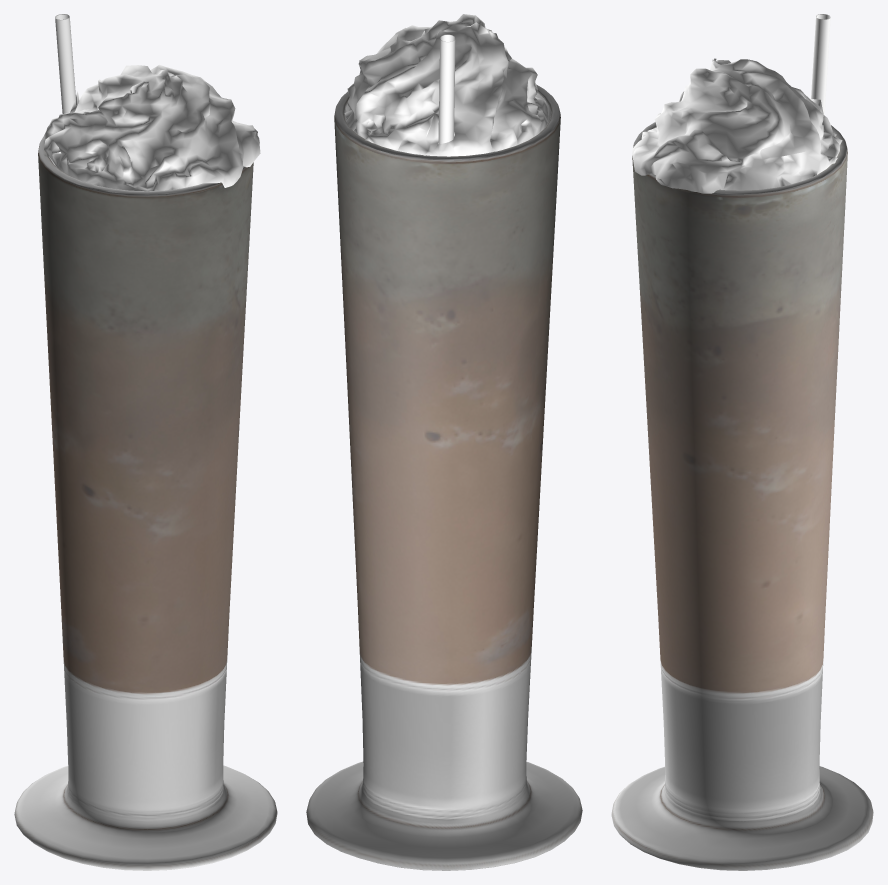
File: vanilla_iced_latte.obj
3 renders of one model, left to right at view 1: azimuth 30°, elevation 25°; view 2: azimuth 150°, elevation 25°; view 3: azimuth 270°, elevation 25°, orthographic. The views are drawn at different scales.
Visible parts, largest first — view 1: obj2, obj1; view 2: obj2, obj1; view 3: obj2, obj1.
Part boxes in pixels (x1,y1,x2,y2): obj2: (14,136,277,870); obj1: (44,14,260,191); obj2: (306,84,582,870); obj1: (344,14,550,156); obj2: (611,122,873,870); obj1: (632,14,842,193).
Size of the model in its own units: 5.58 by 18.29 by 5.58.
